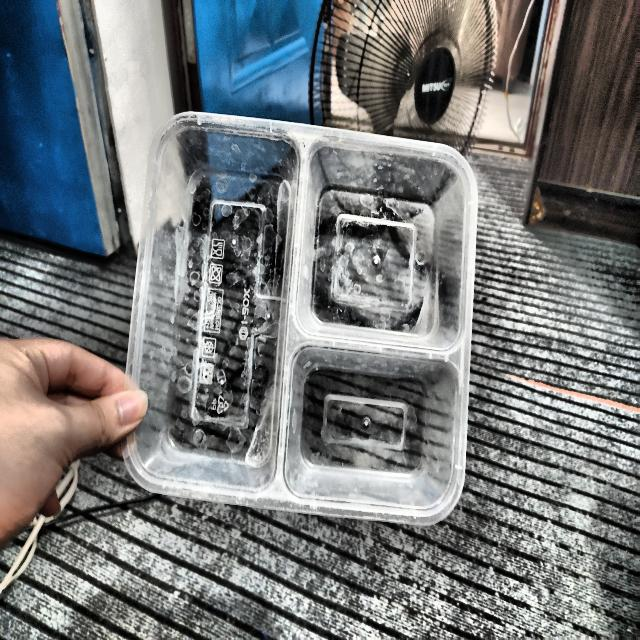plastic container: (125, 113, 478, 525)
